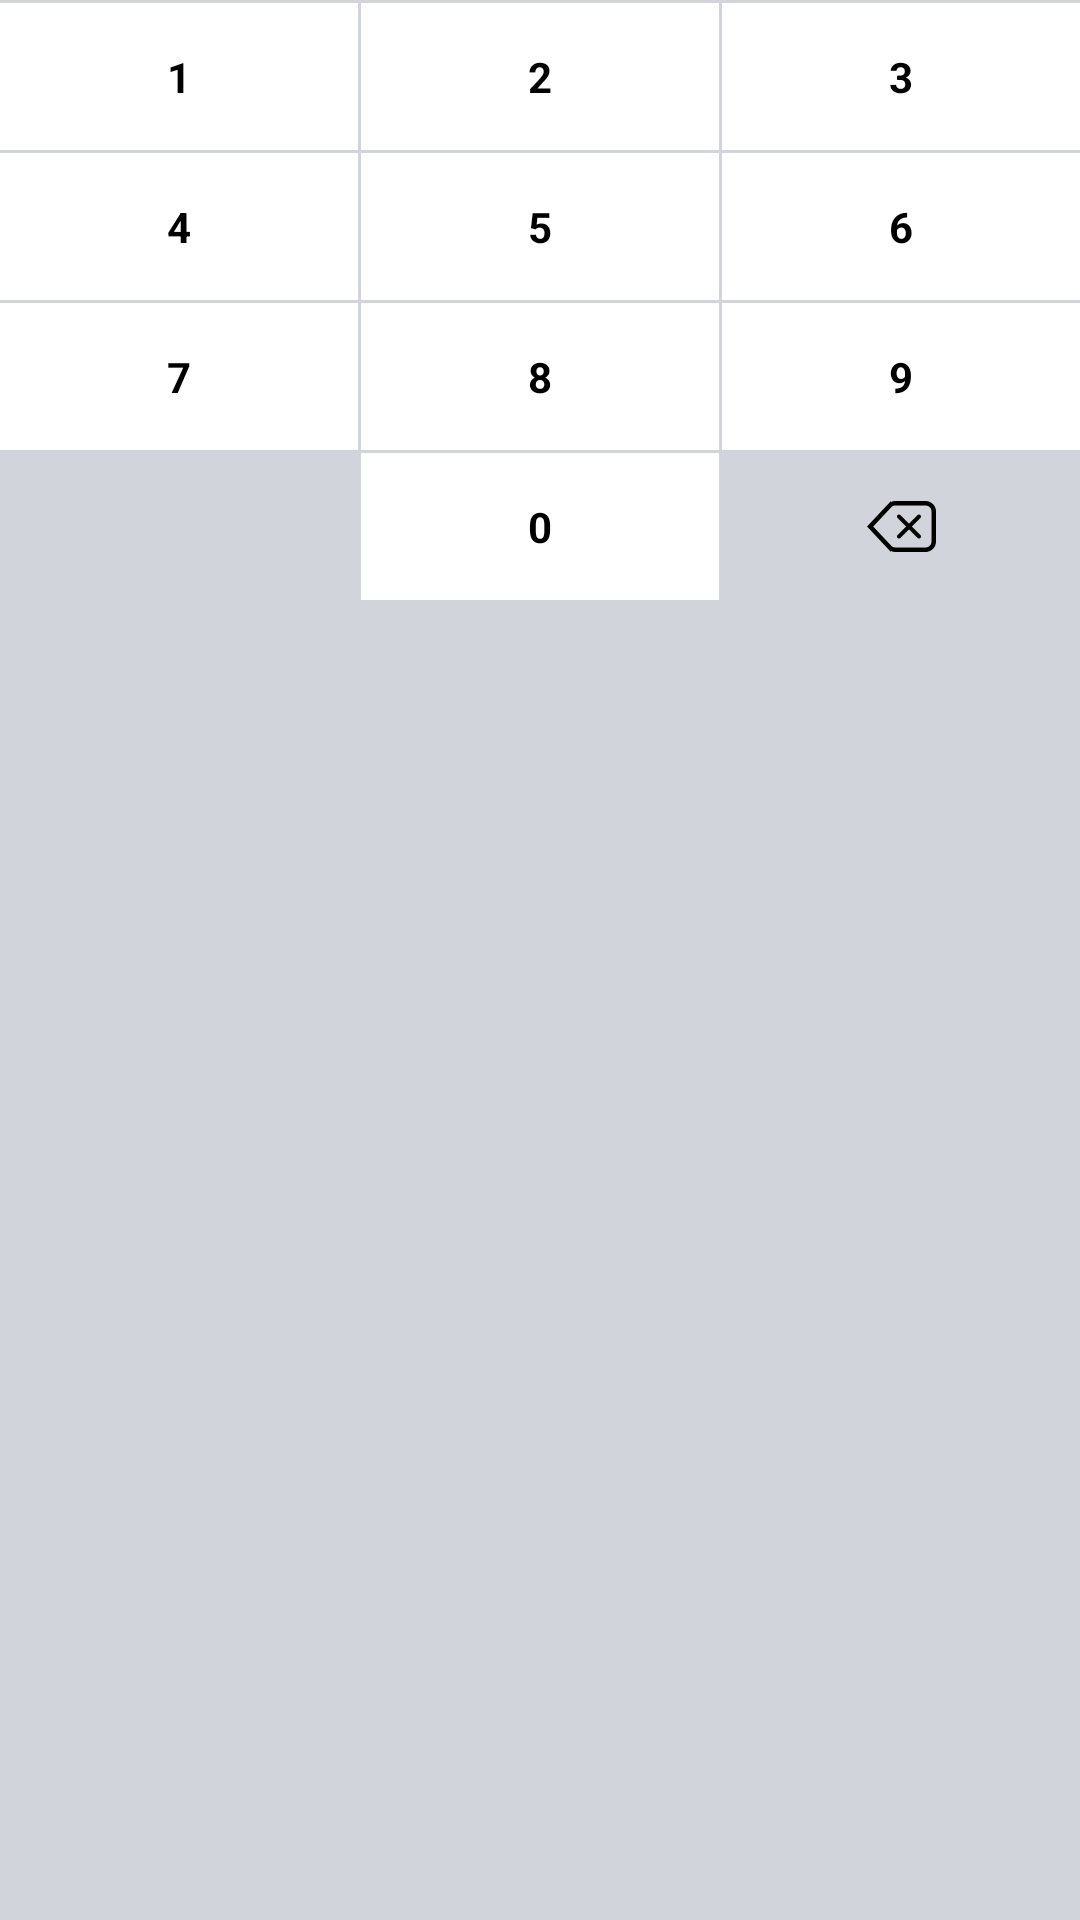

Screen size 1080x1920. Icon name, then its center in pixels as point (x, y):
delete end: point (901, 526)
